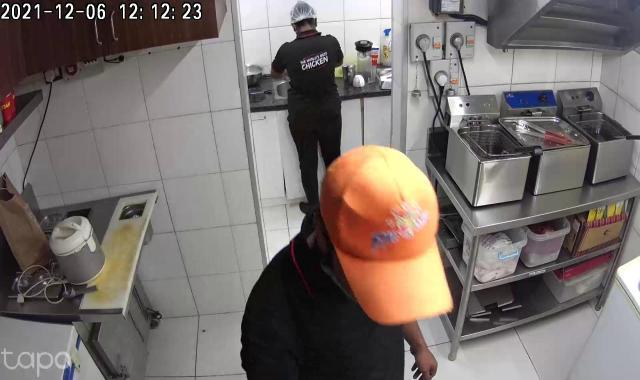Hairnet: (287, 1, 320, 28)
No_Apron: (286, 286, 406, 380), (286, 40, 340, 136)
No_Glove: (408, 347, 440, 380)
No_Hairnet: (317, 143, 457, 326)
